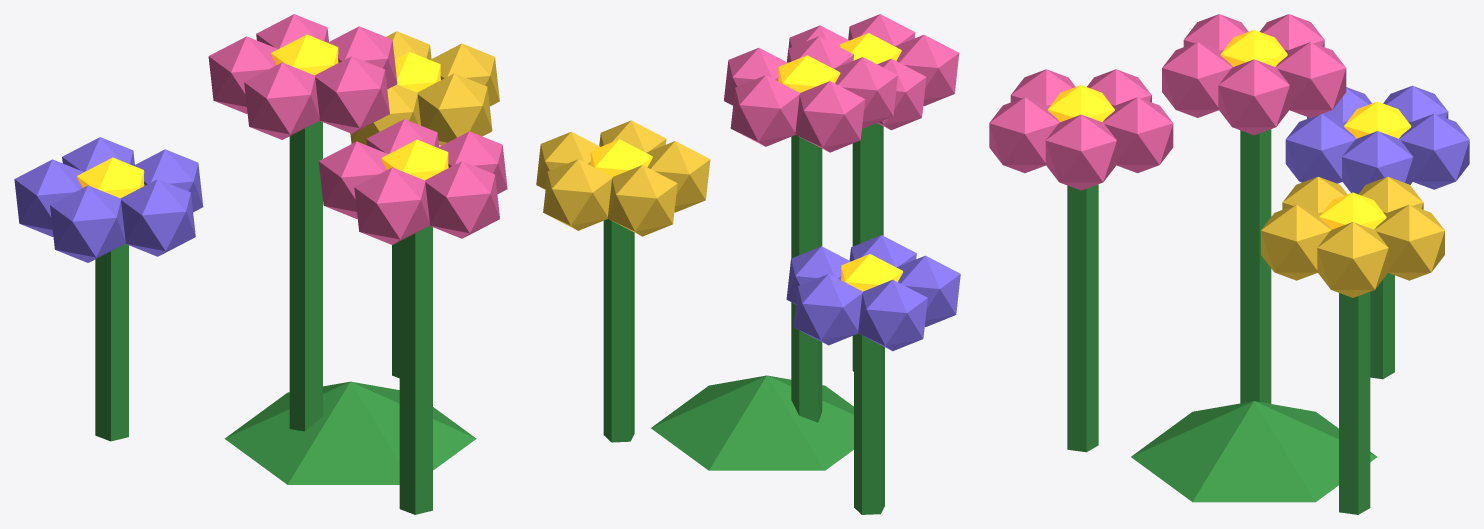
The model's file is flower_cluster.fbx.
3 renders of one model, left to right at view 1: azimuth 30°, elevation 25°; view 2: azimuth 150°, elevation 25°; view 3: azimuth 270°, elevation 25°, orthographic. The views are drawn at different scales.
Visible parts, largest first — view 1: Flower_cluster; view 2: Flower_cluster; view 3: Flower_cluster.
Boxes of the visible parts, <box> form: Flower_cluster: <box>14,14,507,514</box>; Flower_cluster: <box>536,14,960,514</box>; Flower_cluster: <box>989,14,1469,514</box>.
Size of the model in its own units: 2.04 by 1.81 by 1.95.
